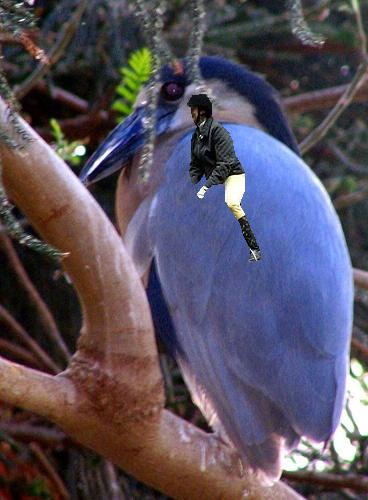tampered: (188, 95, 261, 262)
